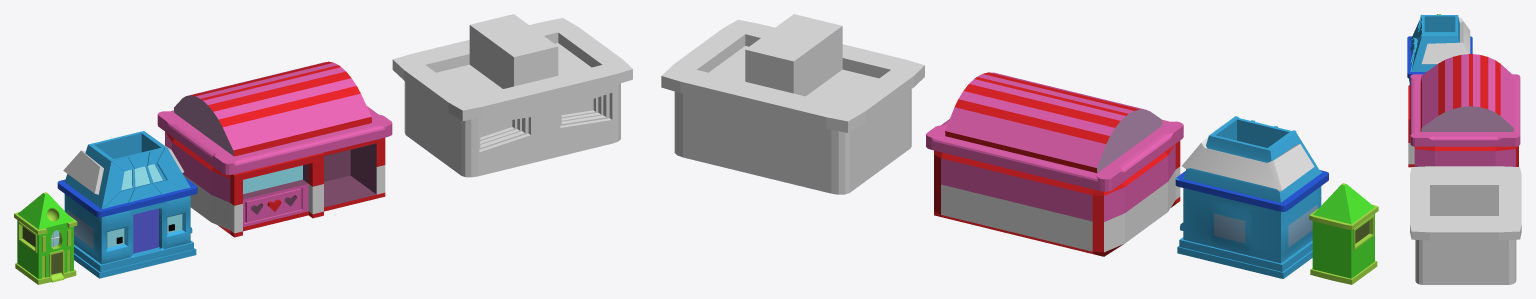
File: ДомикиКрешнные.fbx
The picture shows the model from 3 angles, left to right: view 1: azimuth 30°, elevation 25°; view 2: azimuth 150°, elevation 25°; view 3: azimuth 270°, elevation 25°; orthographic projection. The views are drawn at different scales.
Parts seen in each view (by area): view 1: Cube.004, Cube.005, Cube.003, Cube, Cube.002, Cube.001; view 2: Cube.005, Cube.004, Cube.003, Cube; view 3: Cube.004, Cube.005, Cube.003.
Boxes of the visible parts, left/top/right/bottom form: Cube.004: left=392, top=14, right=632, bottom=177; Cube.005: left=157, top=61, right=392, bottom=237; Cube.003: left=57, top=131, right=197, bottom=278; Cube: left=14, top=192, right=77, bottom=284; Cube.002: left=243, top=165, right=302, bottom=193; Cube.001: left=121, top=164, right=162, bottom=190; Cube.005: left=926, top=72, right=1183, bottom=256; Cube.004: left=661, top=14, right=924, bottom=194; Cube.003: left=1175, top=116, right=1328, bottom=278; Cube: left=1309, top=183, right=1378, bottom=284; Cube.004: left=1410, top=166, right=1521, bottom=284; Cube.005: left=1408, top=54, right=1520, bottom=167; Cube.003: left=1407, top=14, right=1472, bottom=85.
Bounding box in the file's own units: 4566 × 847 × 984.
